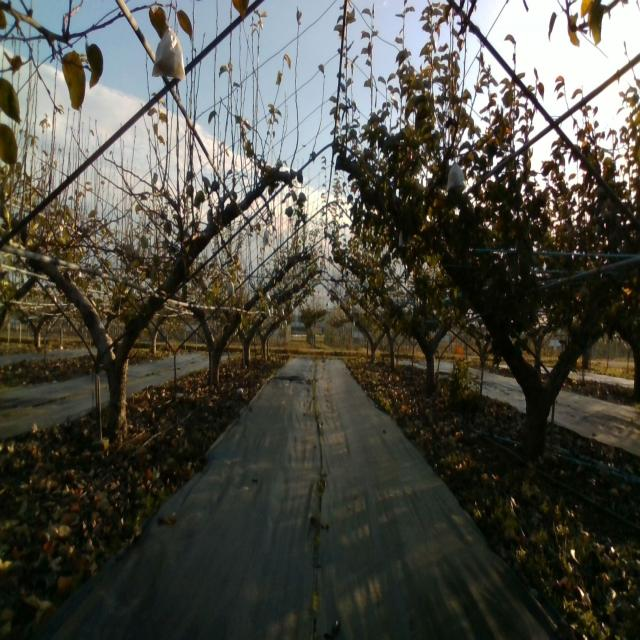pearbags: (151, 28, 186, 81), (446, 163, 466, 190)
